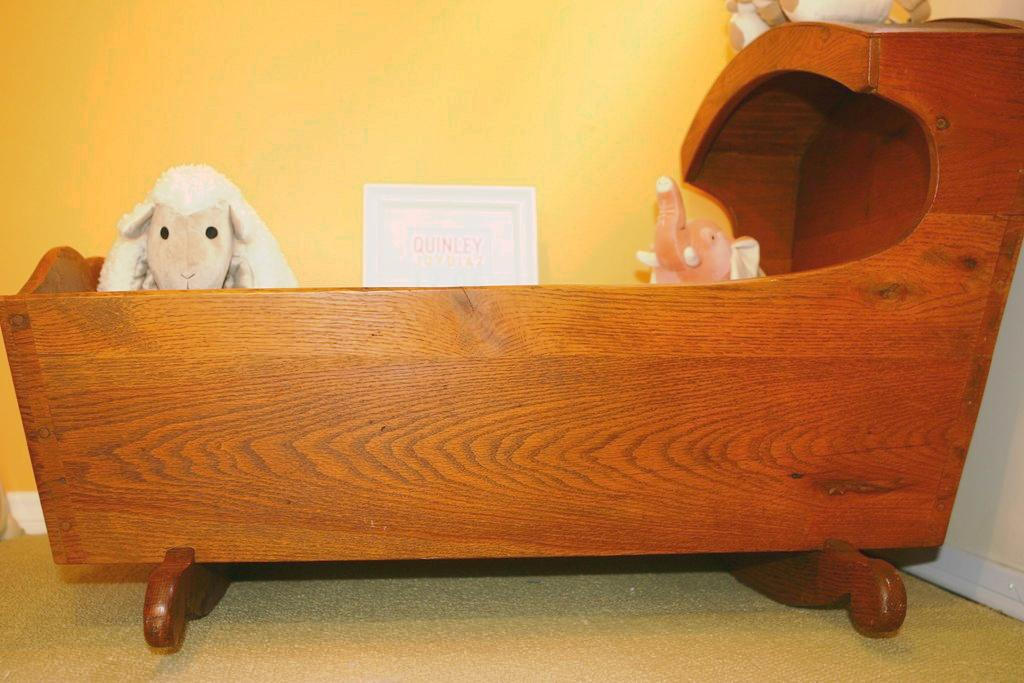Sheep: (94, 165, 300, 290)
